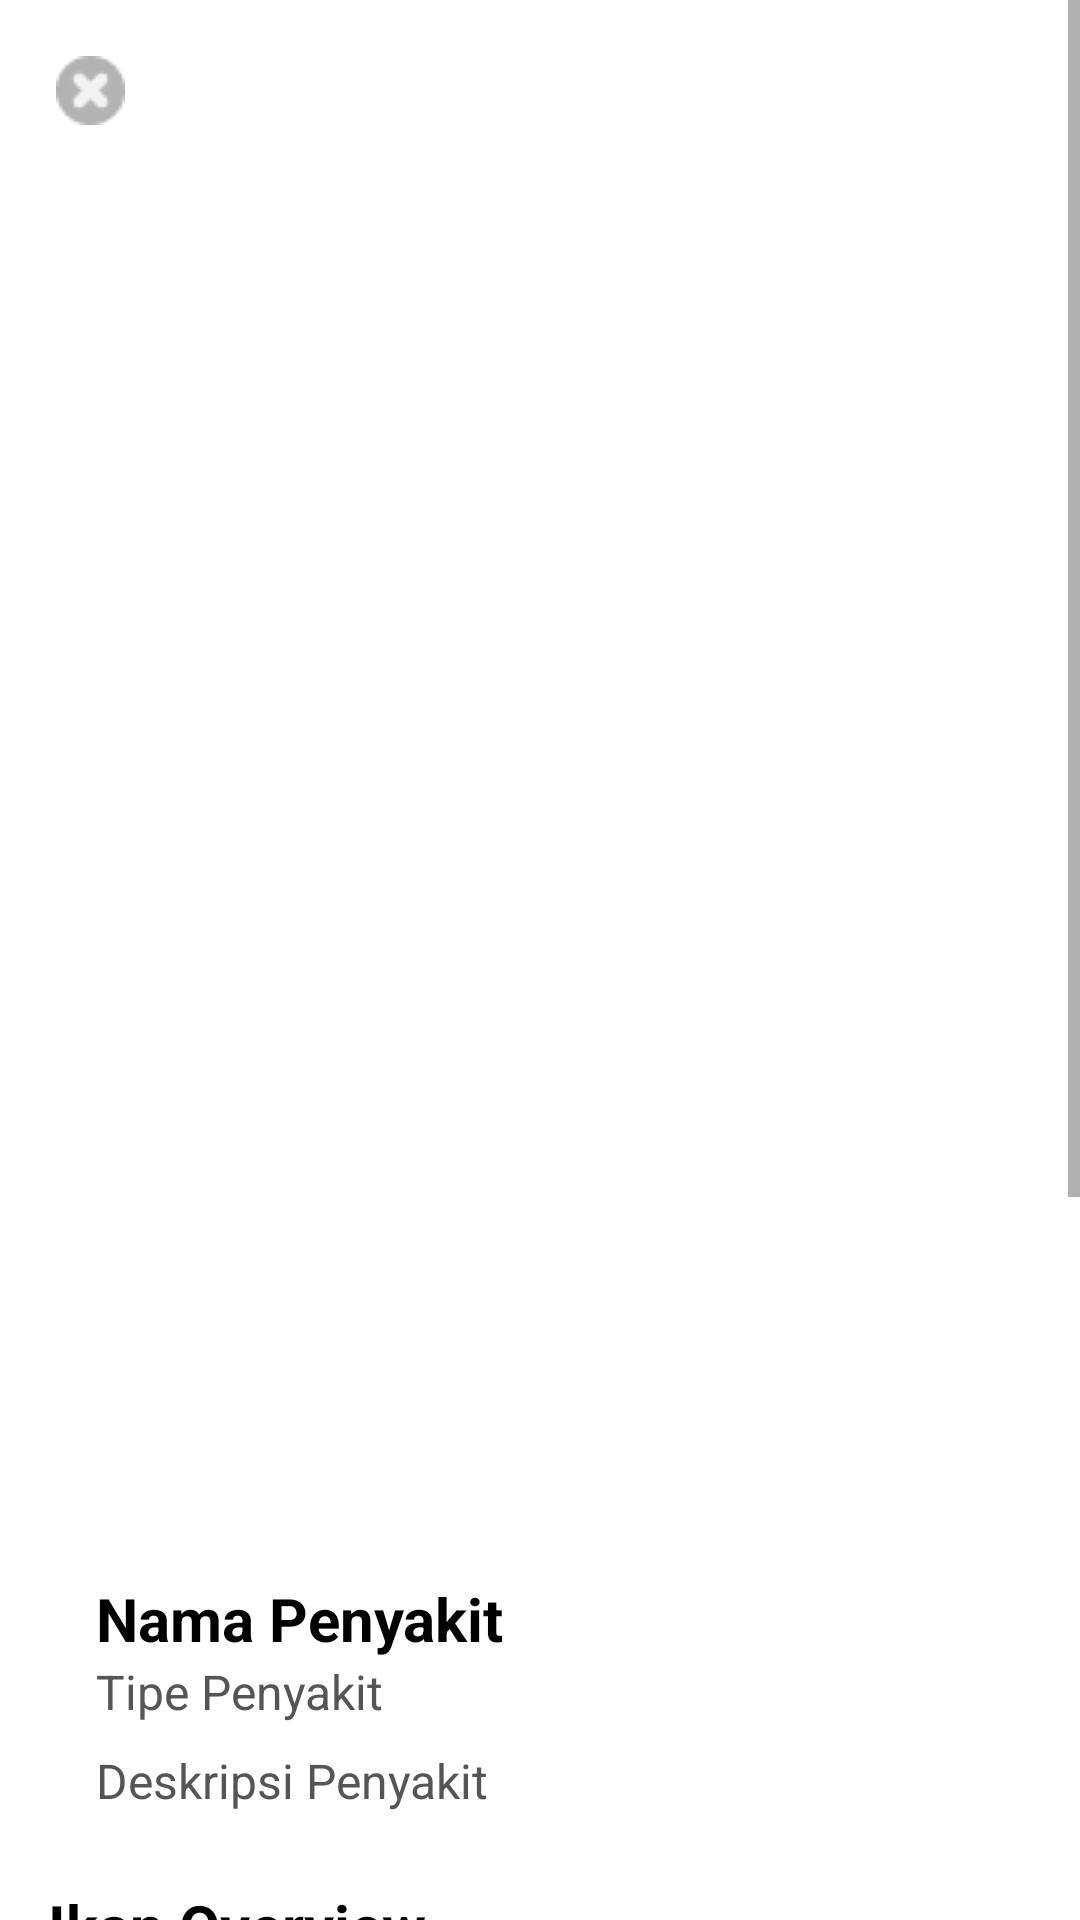

Point at icon controls on the screen. Image size 1080px x 1920px, points as point (x, y).
close: point (90, 90)
